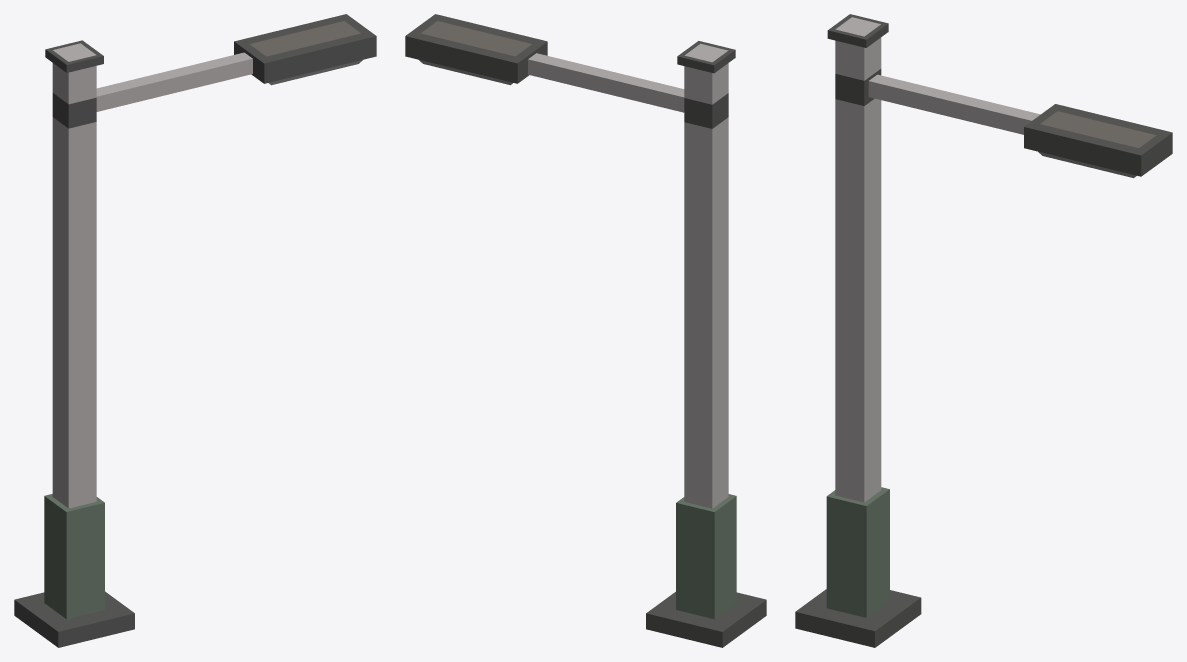
File: road light1.FBX
The picture shows the model from 3 angles, left to right: view 1: azimuth 30°, elevation 25°; view 2: azimuth 150°, elevation 25°; view 3: azimuth 330°, elevation 25°; orthographic projection. The views are drawn at different scales.
Visible parts, largest first — view 1: road light1; view 2: road light1; view 3: road light1.
Boxes of the visible parts, box(x1,y1,x2,y2) form: road light1: box(14, 14, 376, 647); road light1: box(405, 14, 766, 647); road light1: box(795, 14, 1172, 647).
Bounding box in the file's own units: 6.75 × 11.31 × 1.59.
